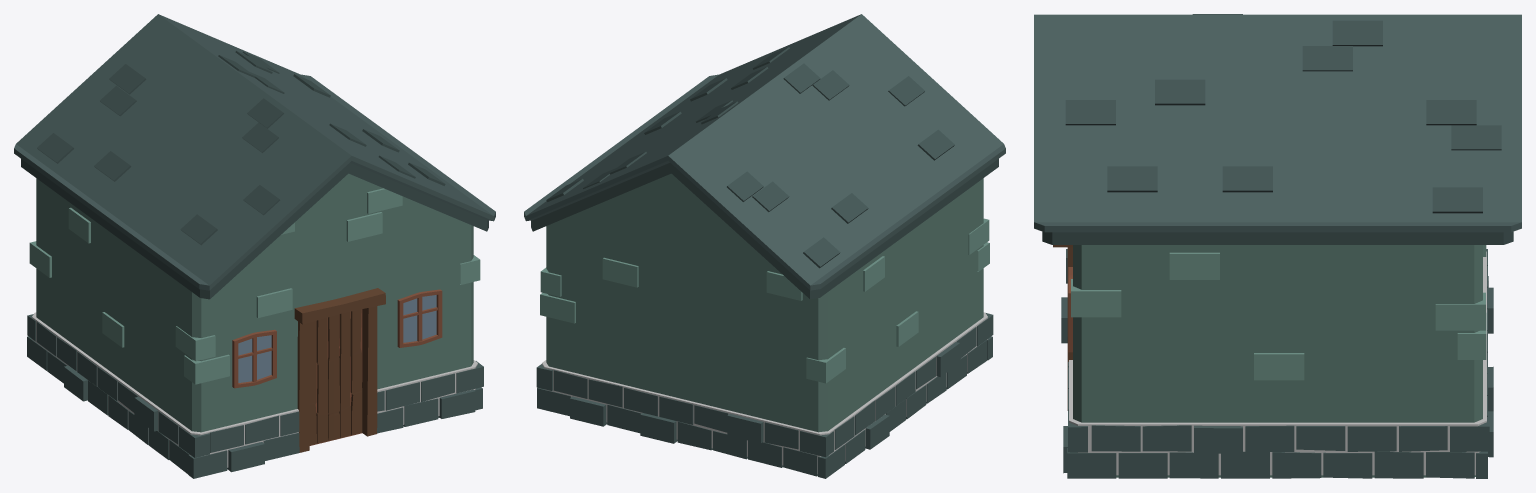
Rendered from City_001.glb.
3 renders of one model, left to right at view 1: azimuth 30°, elevation 25°; view 2: azimuth 150°, elevation 25°; view 3: azimuth 270°, elevation 25°, orthographic. The views are drawn at different scales.
Visible parts, largest first — view 1: 1Story_GableRoof_Mat; view 2: 1Story_GableRoof_Mat; view 3: 1Story_GableRoof_Mat.
Boxes of the visible parts, bbox=[...] form: 1Story_GableRoof_Mat: bbox=[14, 14, 495, 478]; 1Story_GableRoof_Mat: bbox=[524, 14, 1005, 478]; 1Story_GableRoof_Mat: bbox=[1034, 14, 1521, 478].
Size of the model in its own units: 2.11 by 2.02 by 2.38.
